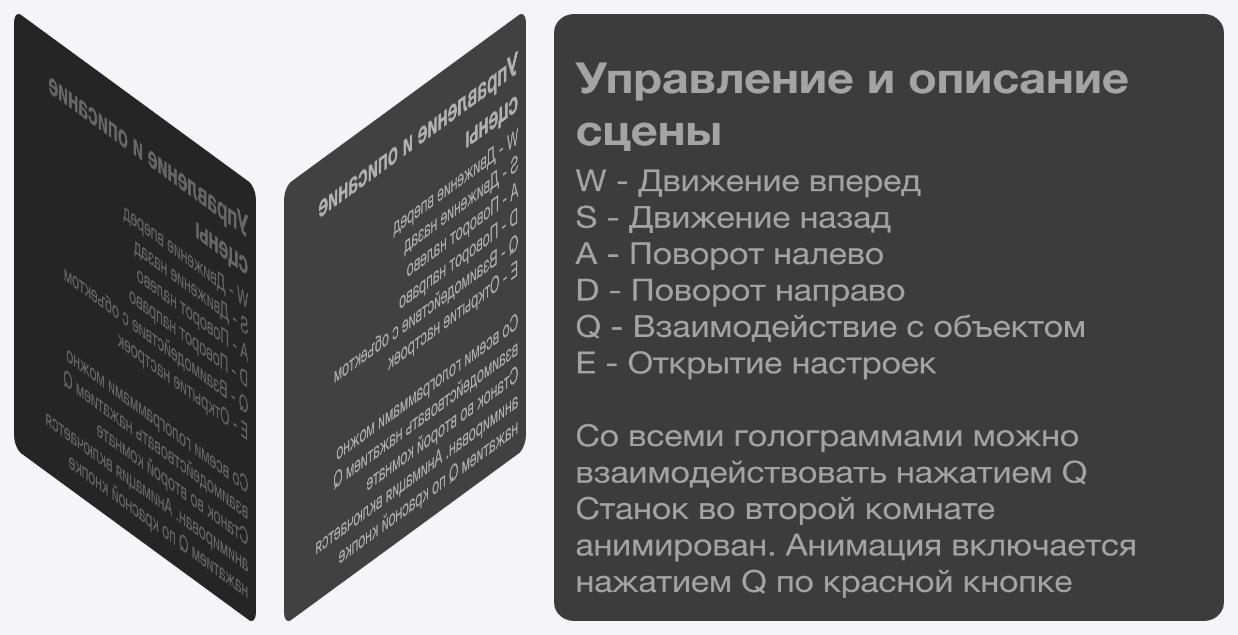
Rendered from StartInfo.glb.
3 renders of one model, left to right at view 1: azimuth 30°, elevation 25°; view 2: azimuth 150°, elevation 25°; view 3: azimuth 270°, elevation 25°, orthographic. The views are drawn at different scales.
Visible parts, largest first — view 1: Plane; view 2: Plane; view 3: Plane.
Boxes of the visible parts, <box> form: Plane: <box>14,14,255,620</box>; Plane: <box>284,14,525,620</box>; Plane: <box>554,14,1223,620</box>.
Size of the model in its own units: 0 by 2 by 2.
Materials: 1 (1 with a texture image).
